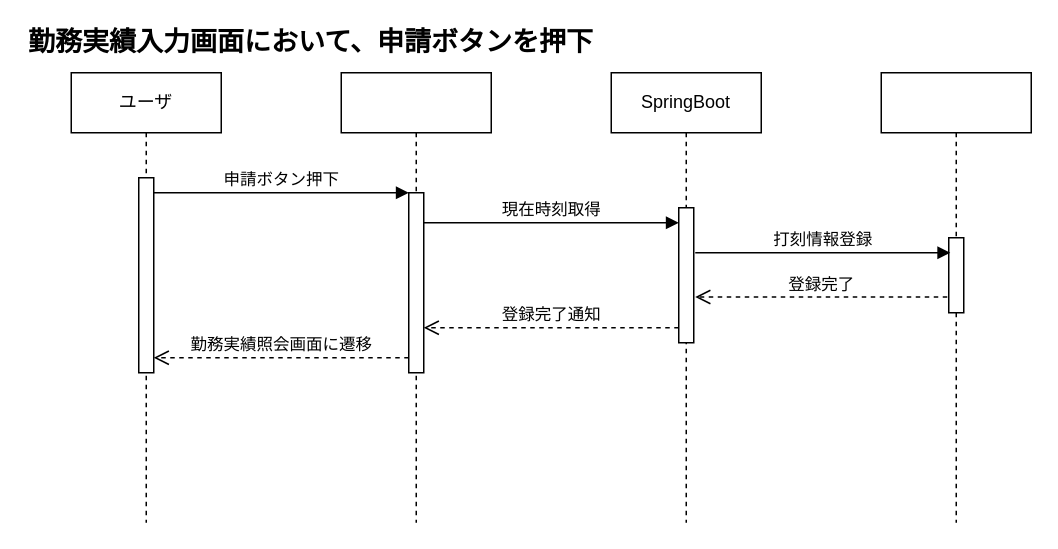
Image size: 1058x549. Some labels were removed from this diagram. Here are the shapes that lost their labels. From the top down, the box of each, then its label:
(340, 71, 491, 523): ブラウザ
(880, 71, 1031, 523): PostgreSQL
